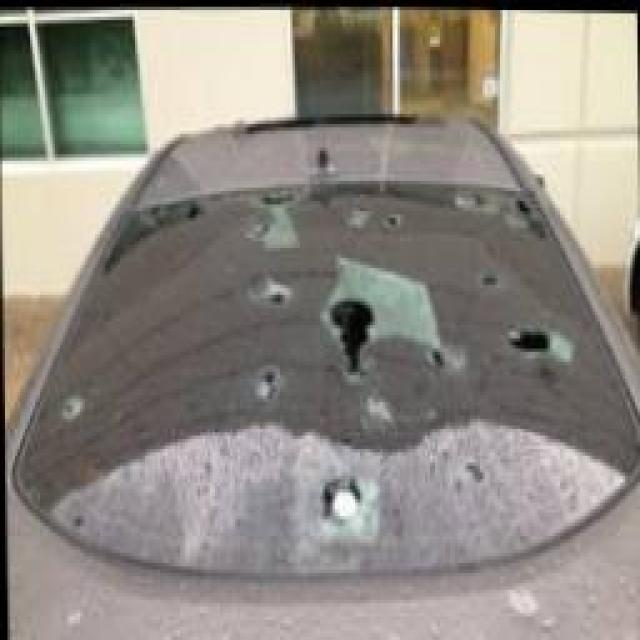Windshield: (11, 193, 640, 574)
